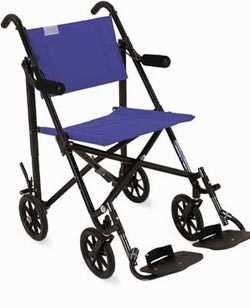obstacle: (1, 23, 248, 307), (1, 0, 107, 27)
